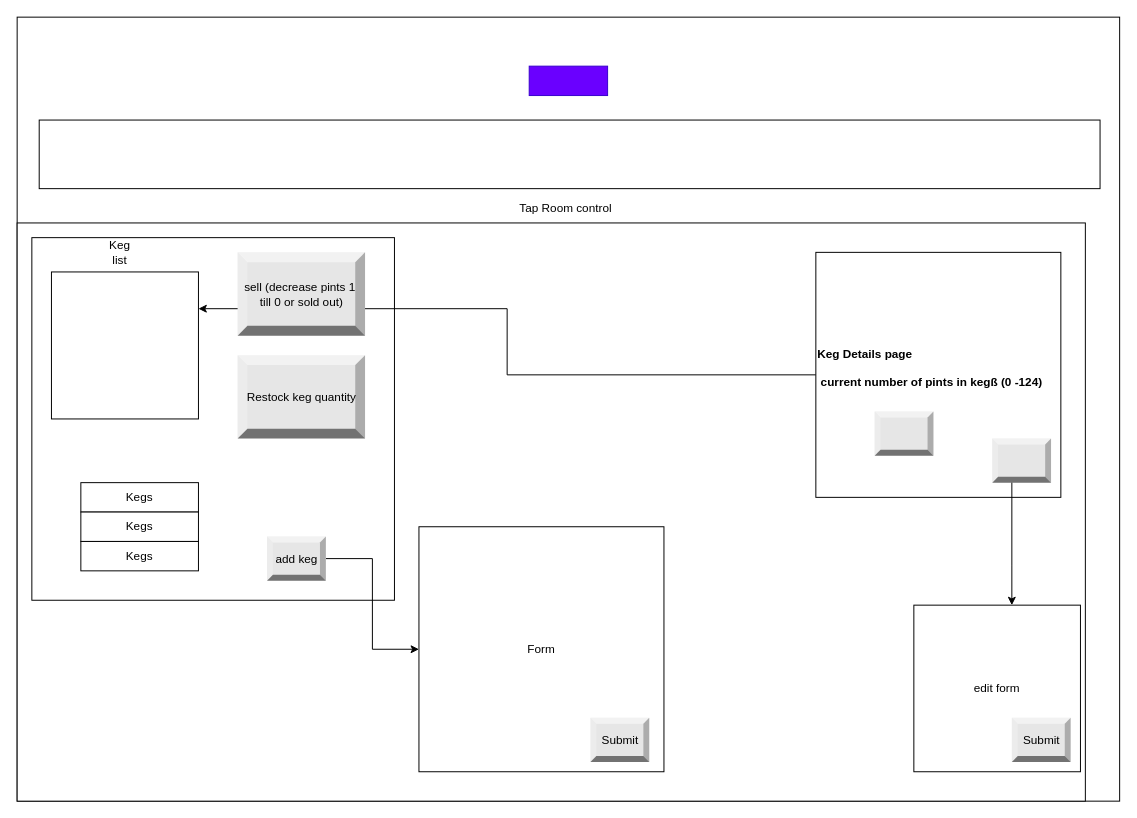
Some shapes in this 1137 by 818 pixel diagram are drawn without their labels. Here are the shapes that lost their labels. From the top down, the centre of each, then its label:
At point 568,80: "Tap Room App".
At point 569,154: "Header".
At point 124,345: "Kegs Name Style Brand Price alc current state of pints quantity of kegs".
At point 903,433: "Delete".
At point 1021,460: "update".
